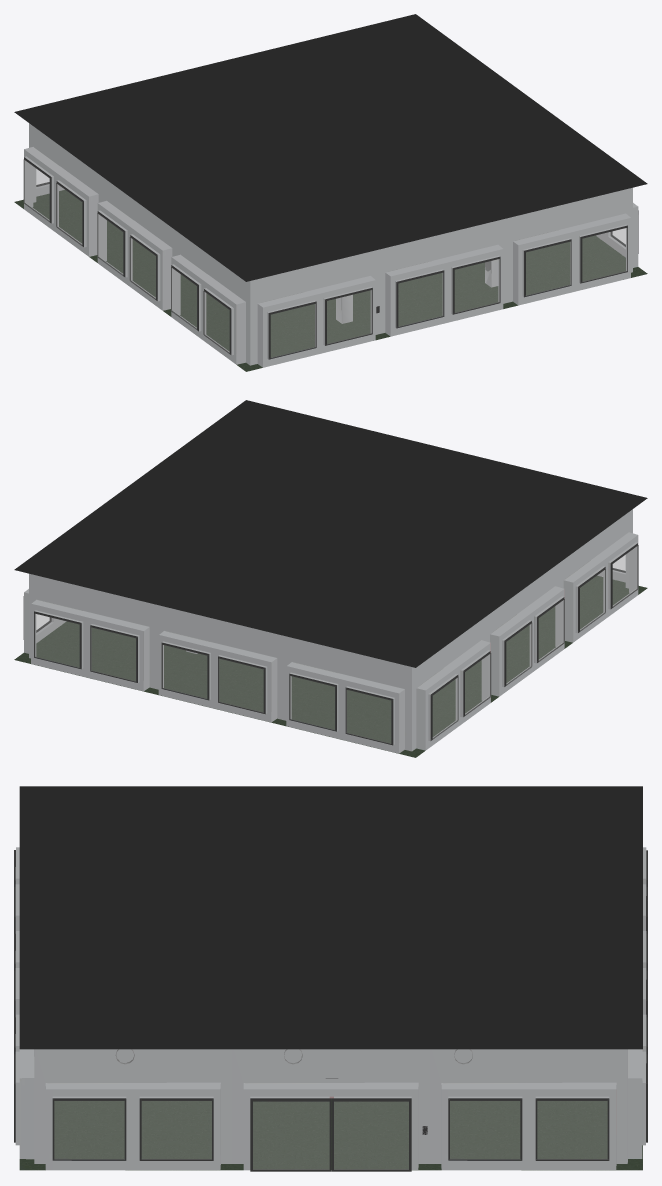
The model's file is studio.glb.
3 views of the same model, one above another, from view 1: azimuth 30°, elevation 25°; view 2: azimuth 150°, elevation 25°; view 3: azimuth 270°, elevation 25° (orthographic). The views are drawn at different scales.
Visible parts, largest first — view 1: defaultMaterial (×3); view 2: defaultMaterial (×3); view 3: defaultMaterial (×3).
Boxes of the visible parts, box(x1,y1,x2,y2) form: defaultMaterial (×3): box(14, 14, 647, 371); defaultMaterial (×3): box(14, 400, 647, 757); defaultMaterial (×3): box(14, 786, 647, 1171).
Bounding box in the file's own units: 20.26 × 4.38 × 20.26.
3 materials, 2 textured.
